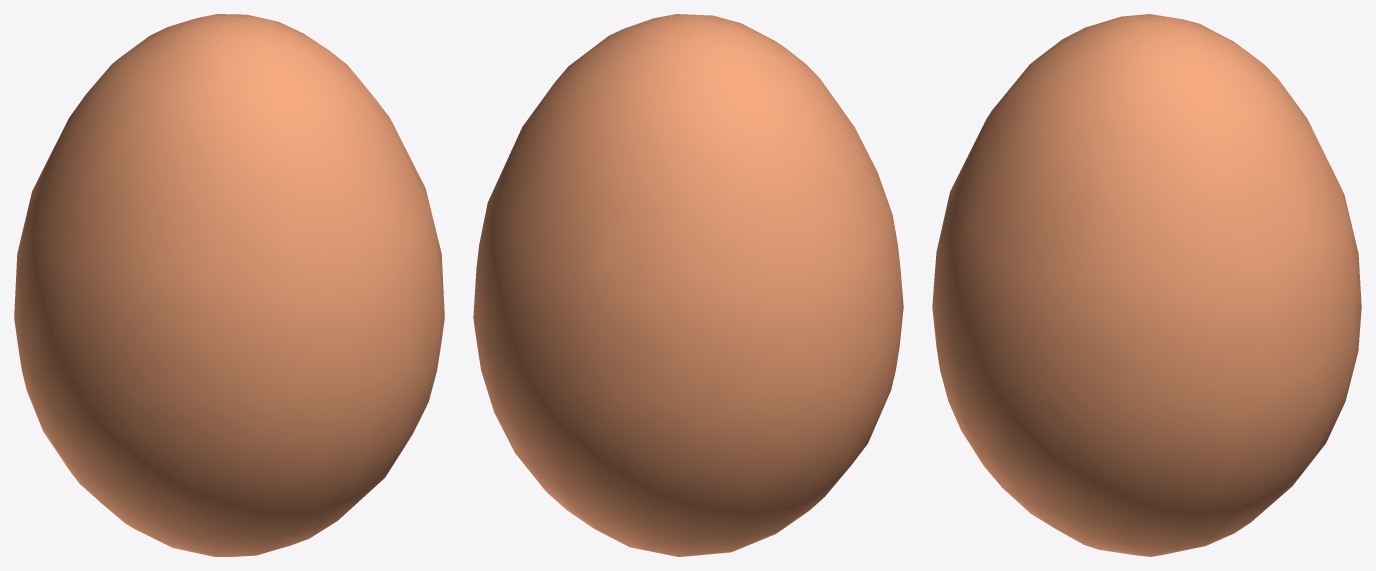
Rendered from Egg_1.glb.
The picture shows the model from 3 angles, left to right: view 1: azimuth 30°, elevation 25°; view 2: azimuth 150°, elevation 25°; view 3: azimuth 270°, elevation 25°; orthographic projection.
Visible parts, largest first — view 1: Egg_1; view 2: Egg_1; view 3: Egg_1.
Part boxes in pixels (x1,y1,x2,y2): Egg_1: [14, 14, 444, 556]; Egg_1: [473, 14, 903, 556]; Egg_1: [932, 14, 1361, 556].
Size of the model in its own units: 0.0576 by 0.0761 by 0.0576.
